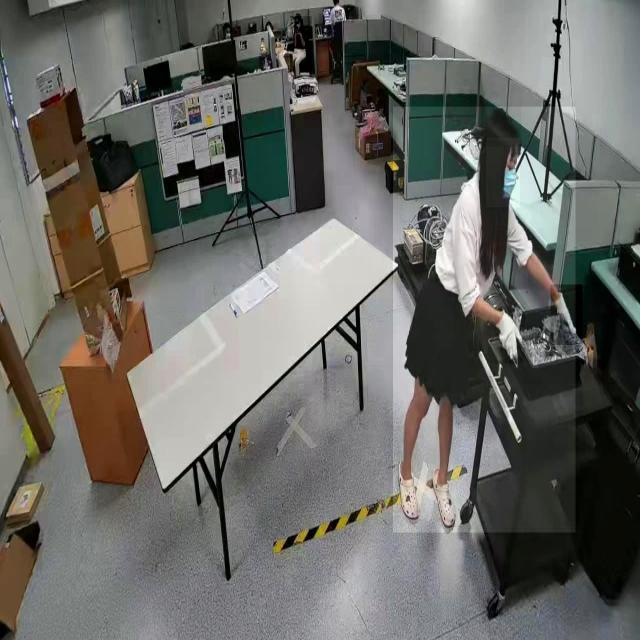face_mask: (486, 138, 520, 207), (295, 19, 303, 33)
hand_glove: (551, 284, 583, 345), (494, 306, 526, 364)
head_nohelmet: (481, 106, 521, 148), (294, 12, 302, 18)
person: (393, 107, 576, 533), (290, 16, 312, 77)
